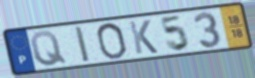3: (192, 9, 222, 50)
5: (158, 13, 190, 53)
I: (73, 25, 93, 65)
K: (127, 18, 160, 56)
O: (95, 21, 129, 61)
Q: (28, 29, 69, 68)
